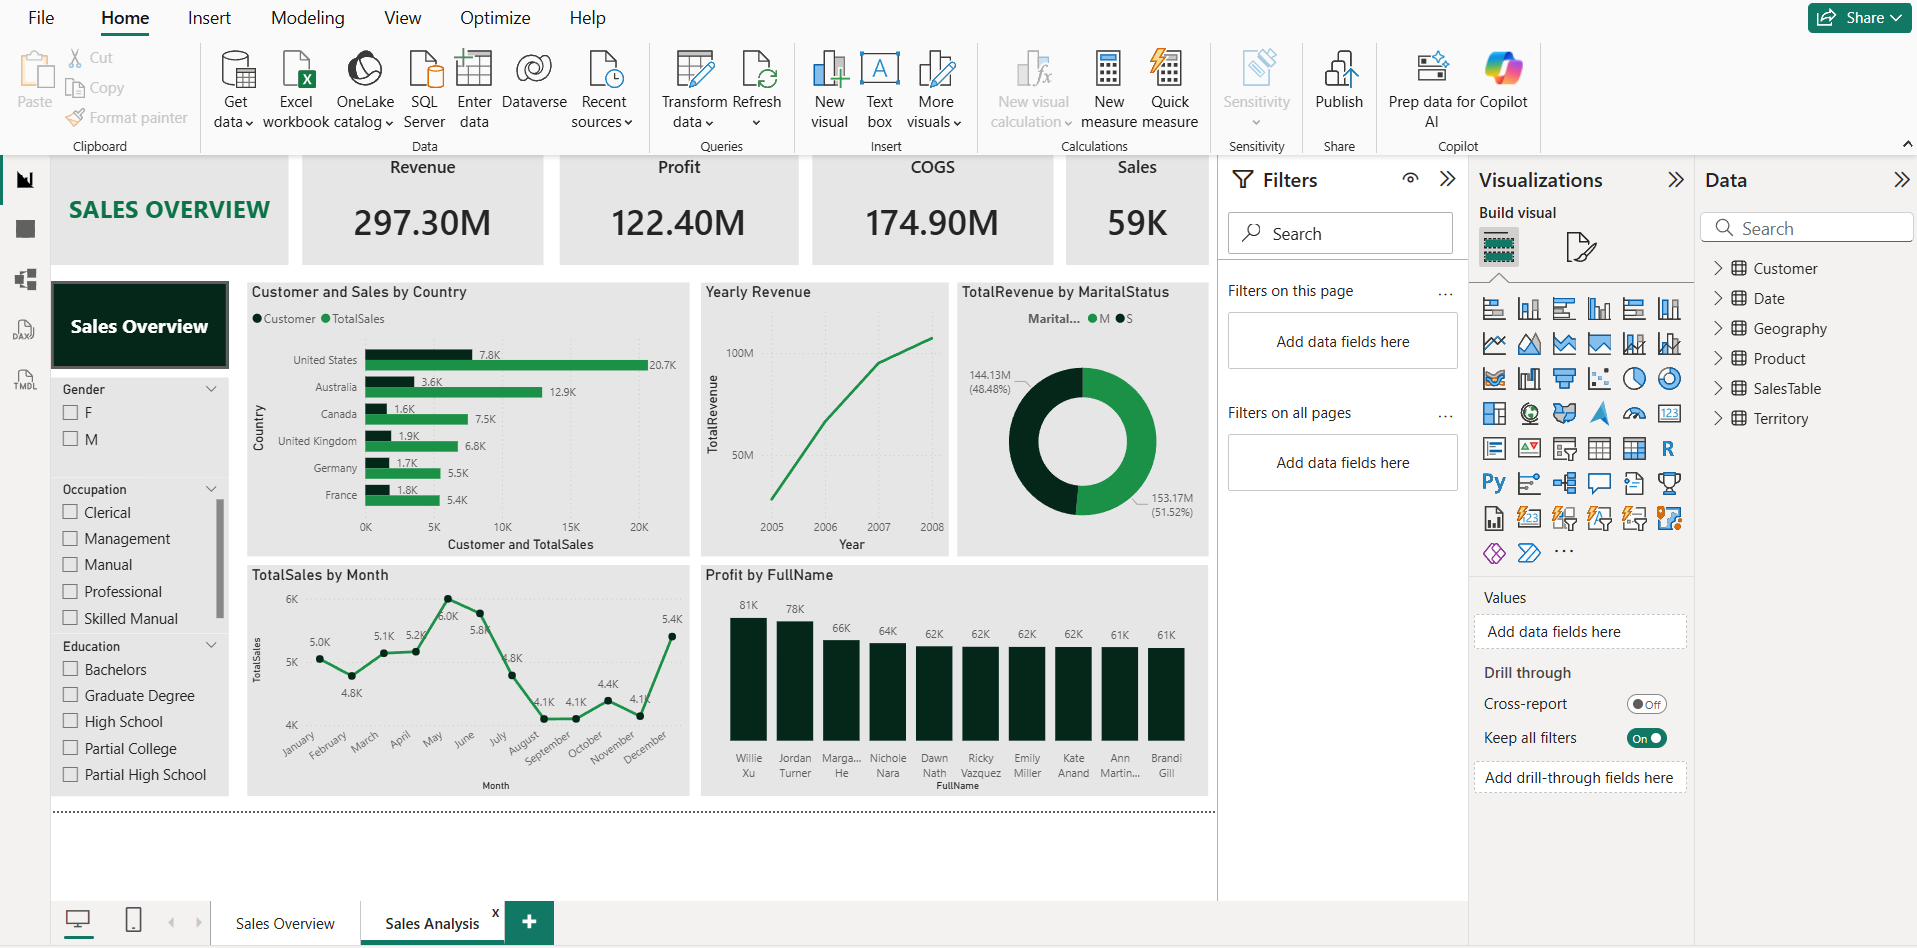

What the dashboard file says about the page in this screenshot:
{"tool":"powerbi","page":{"name":"Sales Analysis","canvas":[1280,720],"ordinal":1},"visuals":[{"type":"card","title":"Revenue","fields":{"Values":["SalesTable.TotalRevenue"]},"box":[275.8,0,264.8,120.8],"z":0},{"type":"card","title":"COGS","fields":{"Values":["SalesTable.TotalCostOfGoods"]},"box":[835.7,0,264.8,120.8],"z":1000},{"type":"card","title":"Profit","fields":{"Values":["SalesTable.Profit"]},"box":[558.5,0,262.1,120.8],"z":2000},{"type":"card","title":"Sales","fields":{"Values":["SalesTable.TotalSales"]},"box":[1114.2,0,156.4,120.8],"z":3000},{"type":"textbox","box":[0,0,260.7,120.8],"z":6000},{"type":"slicer","fields":{"Values":["Customer.Gender"]},"box":[0,244.3,194.9,109.8],"z":7000},{"type":"slicer","fields":{"Values":["Customer.Occupation"]},"box":[0,354,194.9,171.5],"z":8000},{"type":"slicer","fields":{"Values":["Customer.Education"]},"box":[0,525.6,194.9,178.4],"z":9000},{"type":"actionButton","box":[0,138.6,194.9,96.1],"z":10000},{"type":"clusteredBarChart","title":"Customer and Sales by Country","fields":{"Category":["Geography.Country"],"Y":["SalesTable.Customer","SalesTable.TotalSales"]},"box":[215.4,140,485.8,300.5],"z":10001},{"type":"lineChart","fields":{"Category":["SalesTable.DueDate.Variation.Date Hierarchy.Month"],"Y":["SalesTable.TotalSales"]},"box":[215.4,450.1,485.8,253.9],"z":10002},{"type":"lineChart","title":"Yearly Revenue","fields":{"Category":["SalesTable.DueDate.Variation.Date Hierarchy.Year"],"Y":["SalesTable.TotalRevenue"]},"box":[713.6,140,271.7,300.5],"z":10003},{"type":"donutChart","fields":{"Category":["Customer.MaritalStatus"],"Y":["SalesTable.TotalRevenue"]},"box":[994.9,140,275.8,300.5],"z":10004},{"type":"clusteredColumnChart","fields":{"Y":["SalesTable.Profit"],"Category":["Customer.FullName"]},"box":[713.6,450.1,557.1,253.9],"z":10005}]}

Visuals, with their boxes on the page's 1280x720 design canvas (x1, y1, x2, y2). These are canvas units, not pixel positions in the 1917x948 screenshot, which may show the page scaled, cropped or inside an application window:
"Revenue" card: x1=276, y1=0, x2=541, y2=121
"COGS" card: x1=836, y1=0, x2=1100, y2=121
"Profit" card: x1=558, y1=0, x2=821, y2=121
"Sales" card: x1=1114, y1=0, x2=1271, y2=121
textbox: x1=0, y1=0, x2=261, y2=121
slicer - Customer.Gender: x1=0, y1=244, x2=195, y2=354
slicer - Customer.Occupation: x1=0, y1=354, x2=195, y2=526
slicer - Customer.Education: x1=0, y1=526, x2=195, y2=704
actionButton: x1=0, y1=139, x2=195, y2=235
"Customer and Sales by Country" clusteredBarChart: x1=215, y1=140, x2=701, y2=440
lineChart - SalesTable.DueDate.Variation.Date Hierarchy.Month x SalesTable.TotalSales: x1=215, y1=450, x2=701, y2=704
"Yearly Revenue" lineChart: x1=714, y1=140, x2=985, y2=440
donutChart - Customer.MaritalStatus x SalesTable.TotalRevenue: x1=995, y1=140, x2=1271, y2=440
clusteredColumnChart - SalesTable.Profit x Customer.FullName: x1=714, y1=450, x2=1271, y2=704
